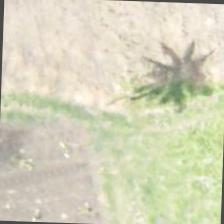Kelapa_Sawit: (80, 33, 174, 126)
